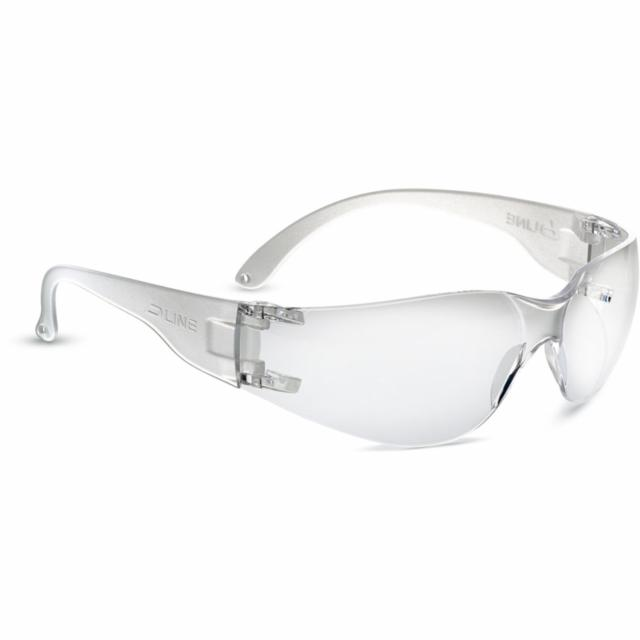Protective Glasses: (1, 97, 640, 533)
